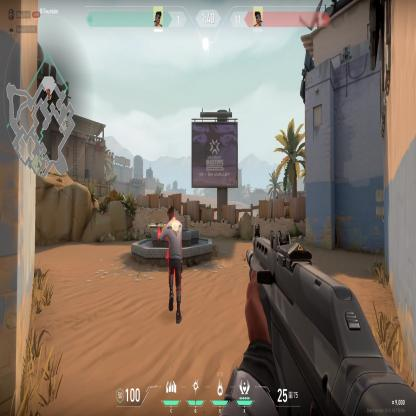enemy: (156, 204, 182, 326)
